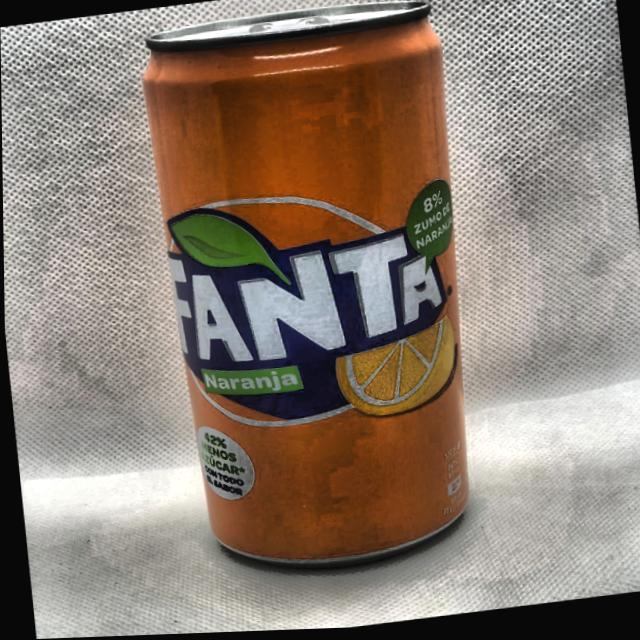Cans: (104, 0, 494, 600)
